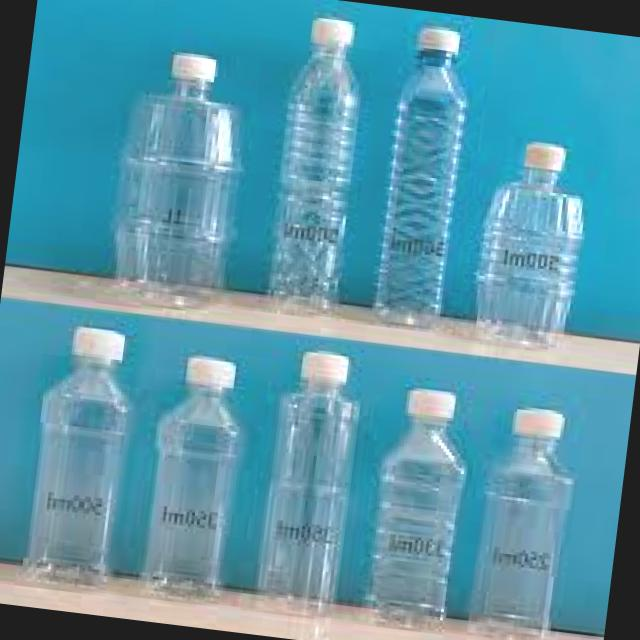bottle: (114, 54, 238, 305), (374, 28, 465, 328), (24, 328, 127, 585), (268, 18, 357, 311), (257, 352, 355, 610), (468, 409, 570, 639), (368, 389, 465, 627), (144, 356, 238, 597), (475, 143, 582, 347)
plastic: (257, 376, 355, 610), (71, 327, 124, 362), (185, 356, 234, 391), (301, 351, 347, 385), (512, 409, 563, 439), (405, 389, 454, 420), (309, 18, 353, 47), (524, 142, 565, 173), (169, 53, 214, 81), (416, 26, 458, 54)
